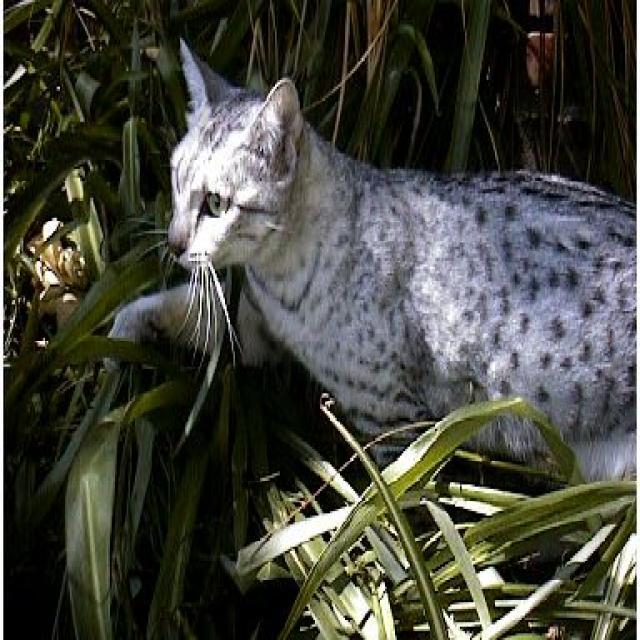Egyptian_Mau: (162, 41, 307, 289)
